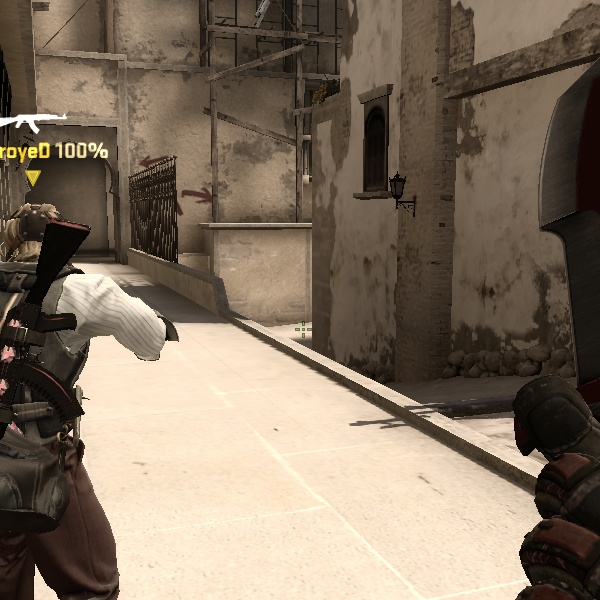t_body: (5, 194, 163, 596)
t_head: (1, 189, 79, 270)
